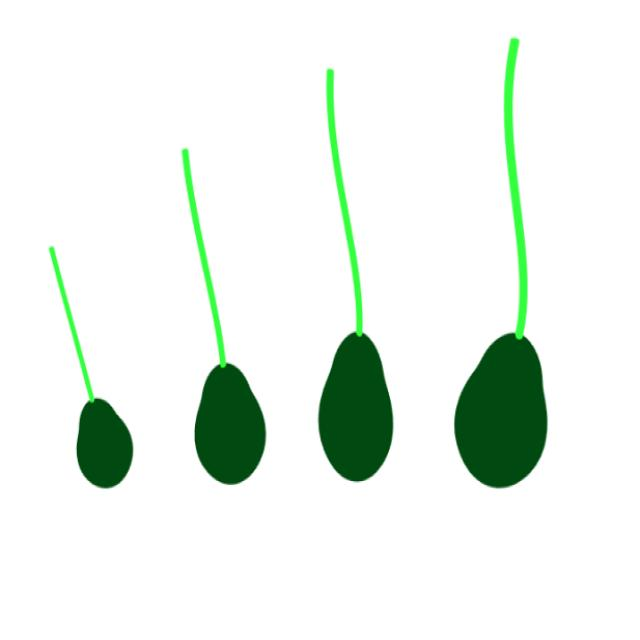fruit: (454, 333, 548, 489), (316, 331, 395, 486), (194, 362, 269, 486), (76, 399, 133, 490)
peduncle: (180, 148, 226, 371), (326, 70, 361, 340), (504, 38, 528, 342), (50, 247, 94, 404)
